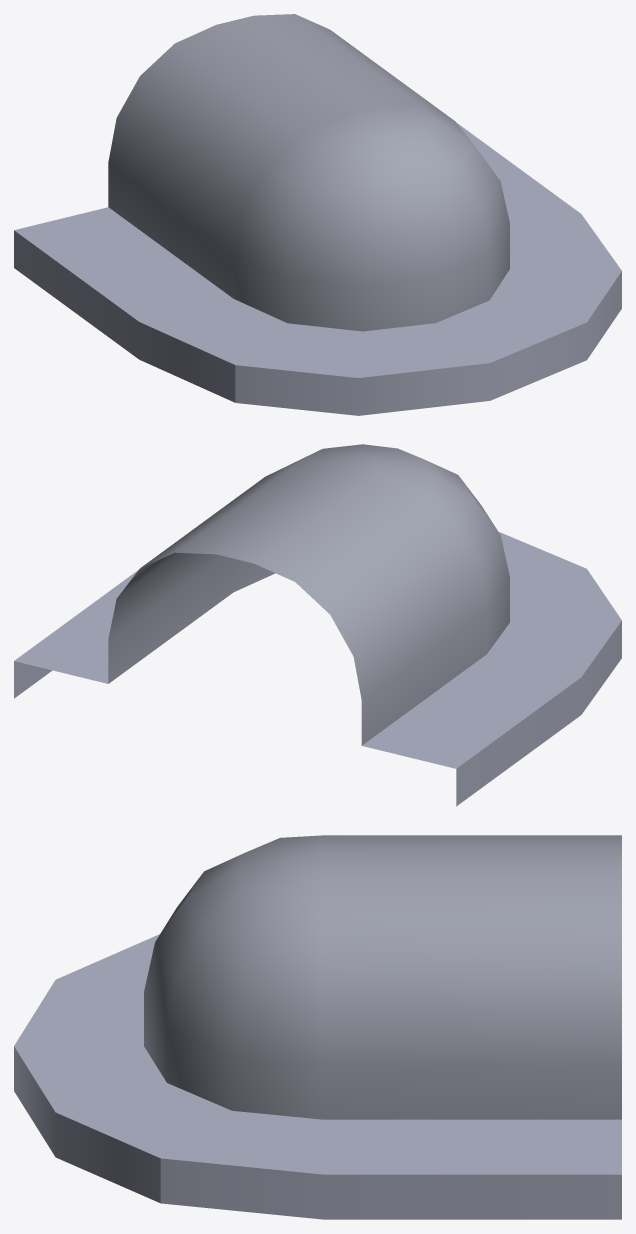
File: frame_platform8.fbx
The picture shows the model from 3 angles, top to bottom: view 1: azimuth 30°, elevation 25°; view 2: azimuth 150°, elevation 25°; view 3: azimuth 270°, elevation 25°; orthographic projection. The views are drawn at different scales.
Visible parts, largest first — view 1: frame_platform8; view 2: frame_platform8; view 3: frame_platform8.
Boxes of the visible parts, <box> form: frame_platform8: <box>14,14,621,415</box>; frame_platform8: <box>14,444,621,806</box>; frame_platform8: <box>14,835,621,1219</box>.
Size of the model in its own units: 100 by 41.88 by 99.96.
